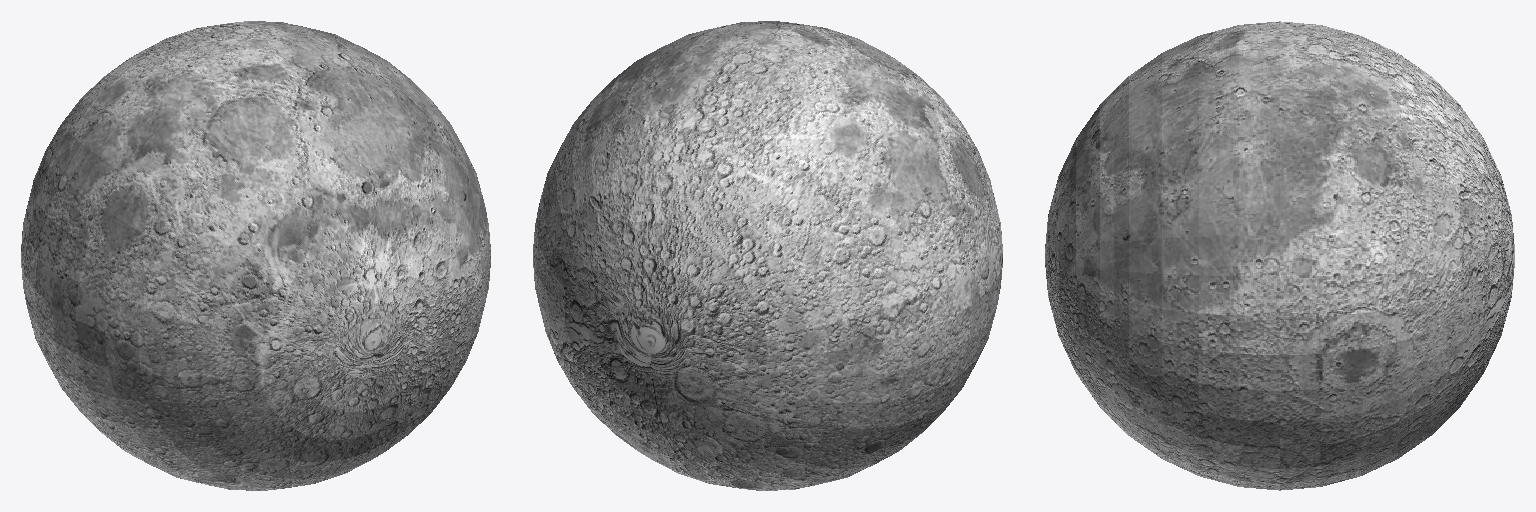
The picture shows the model from 3 angles: view 1: azimuth 30°, elevation 25°; view 2: azimuth 150°, elevation 25°; view 3: azimuth 270°, elevation 25°; orthographic projection.
Parts seen in each view (by area): view 1: Moon; view 2: Moon; view 3: Moon.
Part boxes in pixels (x1,y1,x2,y2): Moon: (21,21,490,490); Moon: (533,21,1002,490); Moon: (1045,21,1514,490).
Bounding box in the file's own units: 1 × 1 × 1.
Materials: 1 (1 with a texture image).